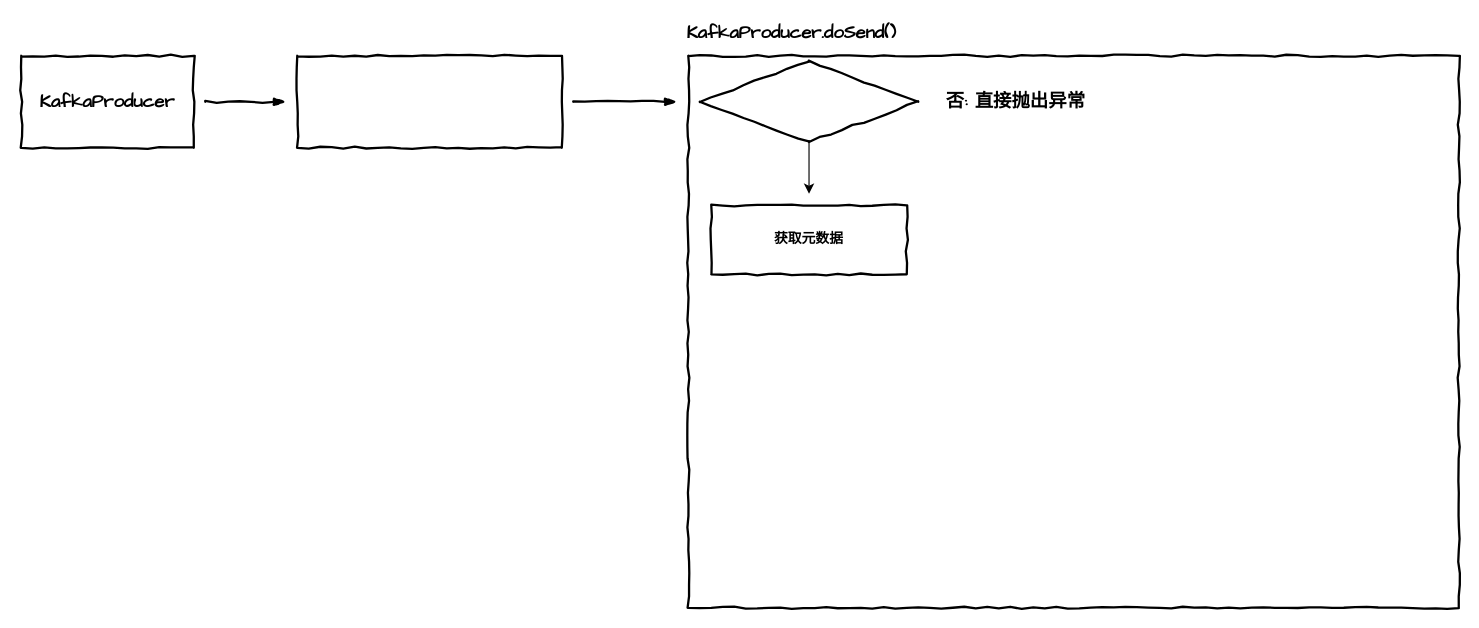
This 1479x628 diagram has some shape labels left out. The centre of each missing label's shape, as x and y in pixels:
ProducerInterceptors 拦截器 在消息发送之前对其进行拦截或修改: the point at 429,101
判断ioThread是否存活: the point at 808,101
